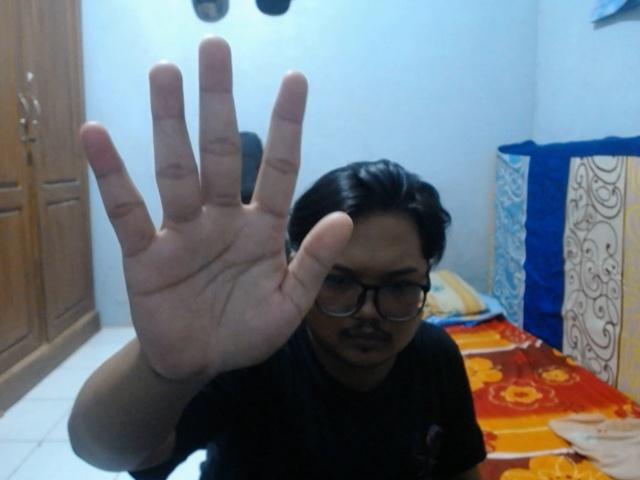Release: (70, 26, 358, 387)
